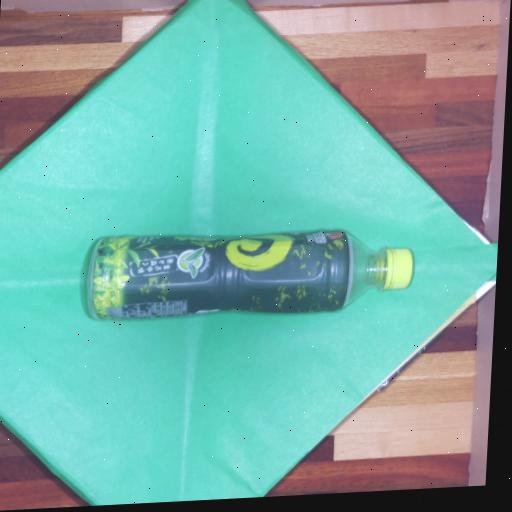bottle: (88, 231, 412, 318)
